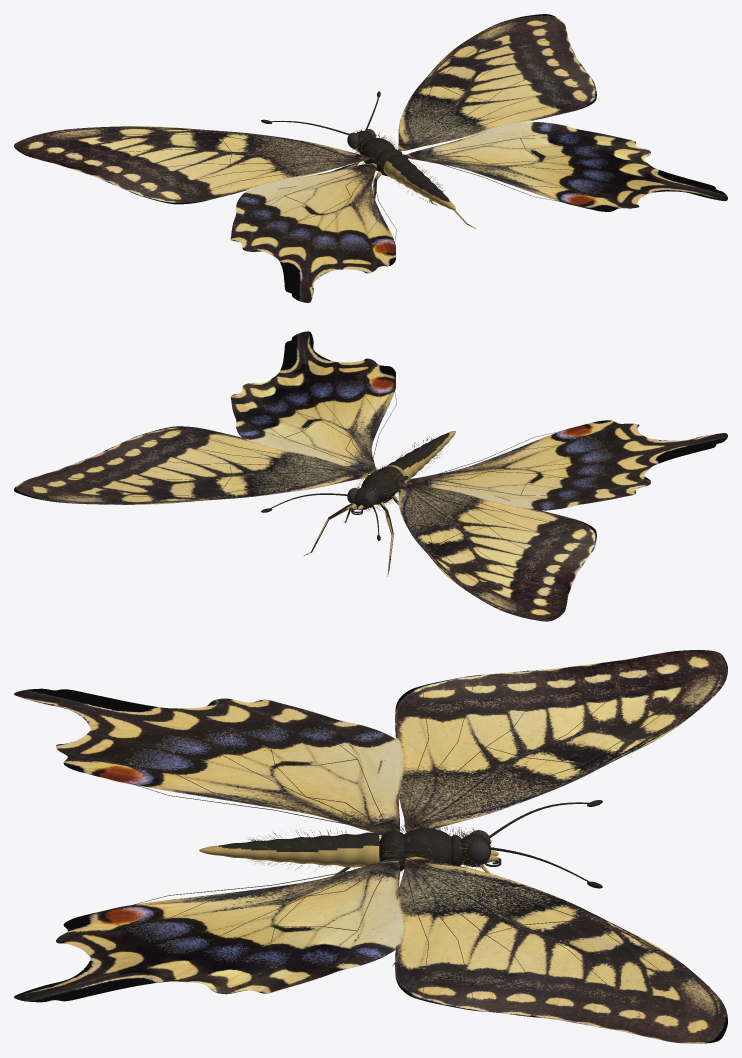
File: PapilioMachaon-Web.glb
The picture shows the model from 3 angles, top to bottom: view 1: azimuth 30°, elevation 25°; view 2: azimuth 150°, elevation 25°; view 3: azimuth 270°, elevation 25°; orthographic projection. The views are drawn at different scales.
Visible parts, largest first — view 1: L_forewing_dorsal, R_forewing_dorsal, R_hindwing_dorsal, L_hindwing_dorsal, Abdomen_eight_surface_segments, Structural_veins_L_fore, Structural_veins_R_fore, Structural_veins_R_hind, Structural_veins_L_hind, Mesothorax; view 2: L_forewing_dorsal, R_forewing_dorsal, R_hindwing_dorsal, L_hindwing_dorsal, Structural_veins_R_fore, Abdomen_eight_surface_segments, Structural_veins_L_fore, Structural_veins_L_hind, Mesothorax, Structural_veins_R_hind; view 3: R_forewing_dorsal, L_forewing_dorsal, L_hindwing_dorsal, R_hindwing_dorsal, Abdomen_eight_surface_segments, Structural_veins_L_fore, Structural_veins_R_fore, Mesothorax, Structural_veins_L_hind, Structural_veins_R_hind, Metathorax.
Boxes of the visible parts, x1,y1,x2,y2 form: L_forewing_dorsal: (14,126,369,203); R_forewing_dorsal: (398,14,596,150); R_hindwing_dorsal: (406,122,727,211); L_hindwing_dorsal: (230,163,395,302); Abdomen_eight_surface_segments: (383,155,455,209); Structural_veins_L_fore: (69,134,366,201); Structural_veins_R_fore: (404,27,593,149); Structural_veins_R_hind: (411,137,602,203); Structural_veins_L_hind: (259,165,396,247); Mesothorax: (361,138,395,170); L_forewing_dorsal: (398,483,596,621); R_forewing_dorsal: (14,426,368,504); R_hindwing_dorsal: (230,331,395,473); L_hindwing_dorsal: (405,420,727,510); Structural_veins_R_fore: (64,429,366,497); Abdomen_eight_surface_segments: (387,431,455,482); Structural_veins_L_fore: (404,483,593,604); Structural_veins_L_hind: (411,428,602,496); Mesothorax: (362,471,397,504); Structural_veins_R_hind: (259,384,396,471); R_forewing_dorsal: (395,856,727,1043); L_forewing_dorsal: (395,650,727,832); L_hindwing_dorsal: (14,688,399,835); R_hindwing_dorsal: (14,858,399,1001); Abdomen_eight_surface_segments: (199,832,379,867); Structural_veins_L_fore: (404,674,704,831); Structural_veins_R_fore: (404,858,704,1014); Mesothorax: (404,828,451,867); Structural_veins_L_hind: (114,722,389,832); Structural_veins_R_hind: (114,862,390,968); Metathorax: (379,830,404,871).
Size of the model in its own units: 0.0674 by 0.00873 by 0.0516.
Materials: 8 (2 with a texture image).
